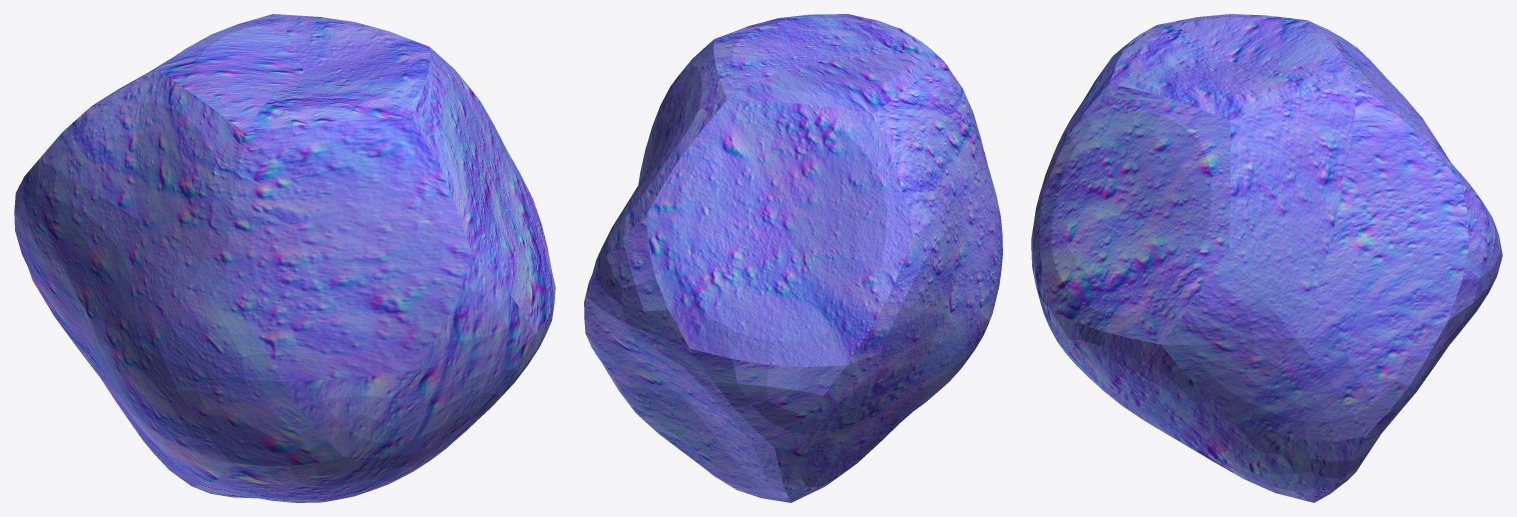
File: mediumasteroid1_LOD2.fbx
3 renders of one model, left to right at view 1: azimuth 30°, elevation 25°; view 2: azimuth 150°, elevation 25°; view 3: azimuth 270°, elevation 25°, orthographic. The views are drawn at different scales.
Visible parts, largest first — view 1: Icosphere; view 2: Icosphere; view 3: Icosphere.
Part boxes in pixels (box(x1,y1,x2,y2)): Icosphere: box(14, 14, 555, 502); Icosphere: box(584, 14, 1002, 502); Icosphere: box(1031, 14, 1502, 502).
Size of the model in its own units: 207 by 230 by 237.
